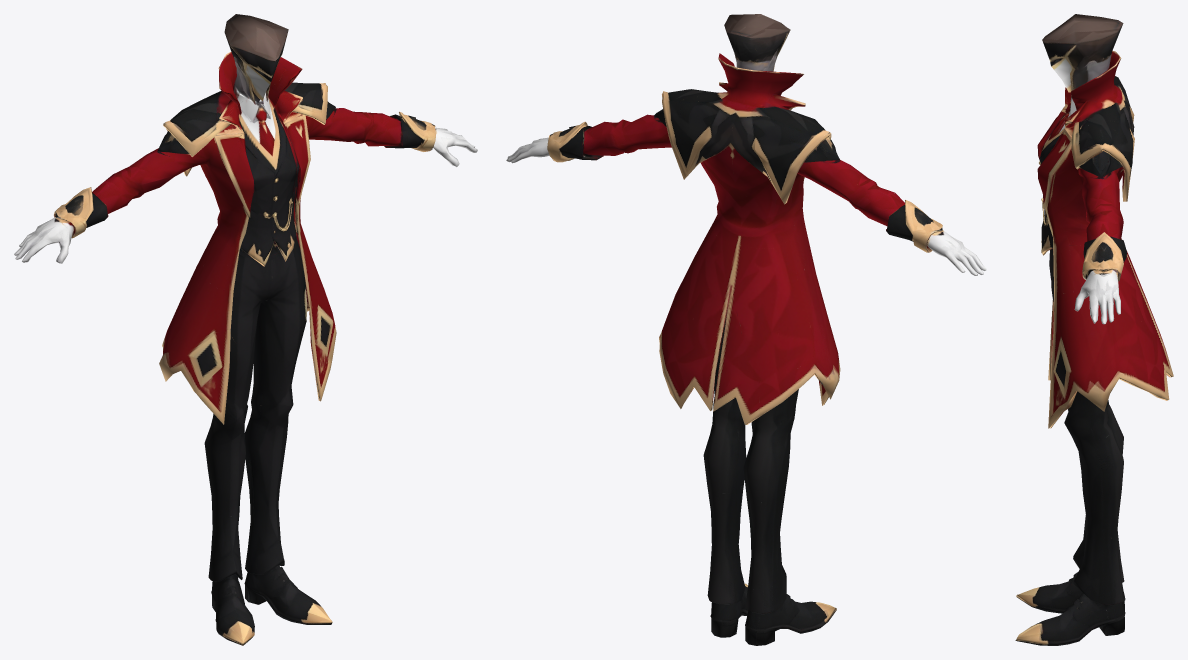
The model's file is Meshy_AI_Crimson_Aristocrat_1018164202_texture.fbx.
3 views of the same model, side by side, from view 1: azimuth 30°, elevation 25°; view 2: azimuth 150°, elevation 25°; view 3: azimuth 270°, elevation 25° (orthographic). The views are drawn at different scales.
Parts seen in each view (by area): view 1: Mesh_0; view 2: Mesh_0; view 3: Mesh_0.
Part boxes in pixels (x1,y1,x2,y2): Mesh_0: (14,14,477,645); Mesh_0: (506,14,986,645); Mesh_0: (1015,14,1173,645).
Size of the model in its own units: 77.88 by 95.17 by 22.75.
1 material, 1 textured.
